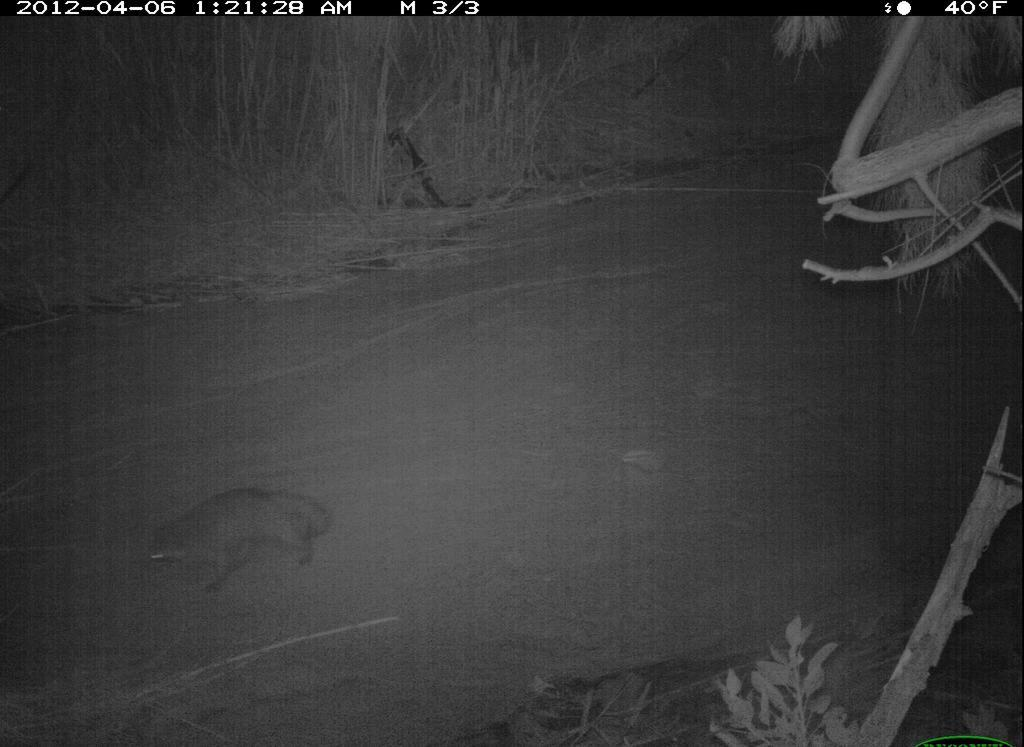raccoon: (125, 473, 346, 583)
